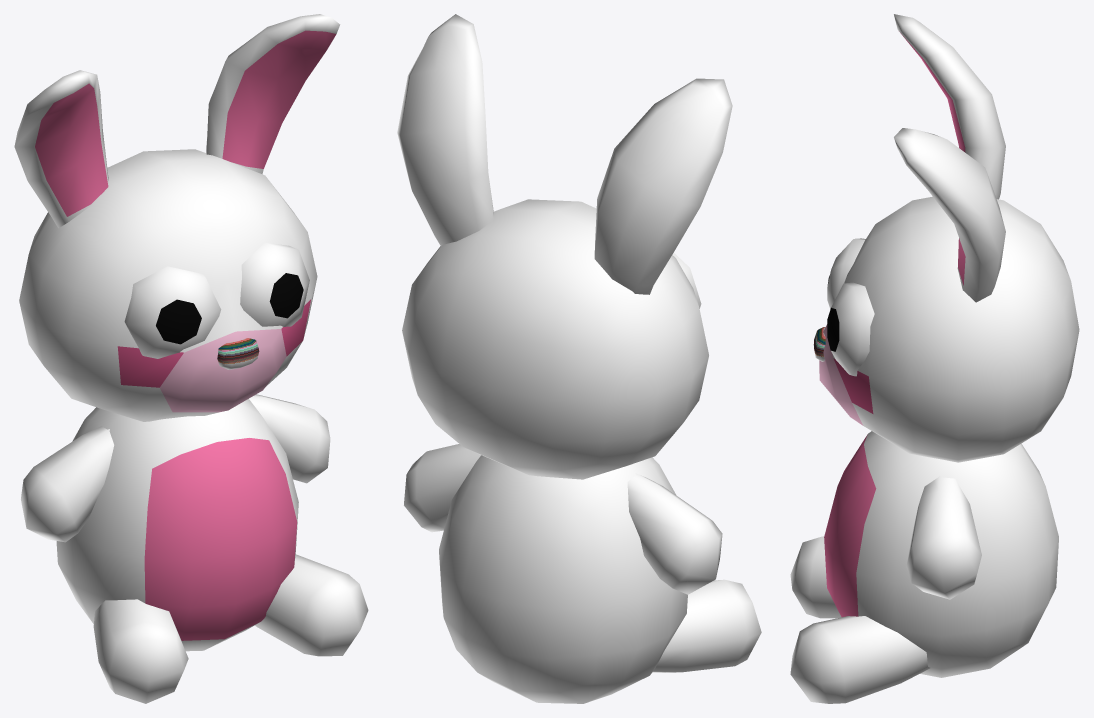
Rendered from Prop_TeddyBear_02.fbx.
3 views of the same model, side by side, from view 1: azimuth 30°, elevation 25°; view 2: azimuth 150°, elevation 25°; view 3: azimuth 270°, elevation 25° (orthographic). The views are drawn at different scales.
Parts seen in each view (by area): view 1: Prop_TeddyBear_02; view 2: Prop_TeddyBear_02; view 3: Prop_TeddyBear_02.
Part boxes in pixels (x1,y1,x2,y2): Prop_TeddyBear_02: (14,14,368,703); Prop_TeddyBear_02: (397,14,761,703); Prop_TeddyBear_02: (790,14,1079,703).
Bounding box in the file's own units: 30.85 × 58.62 × 26.06.
